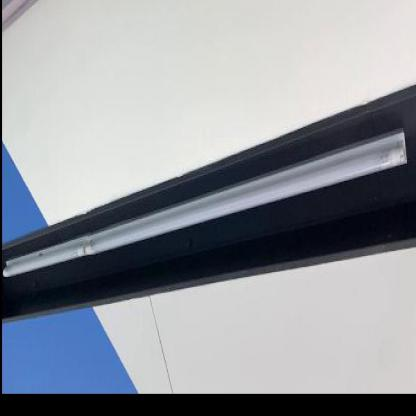light_off: (2, 89, 410, 319)
